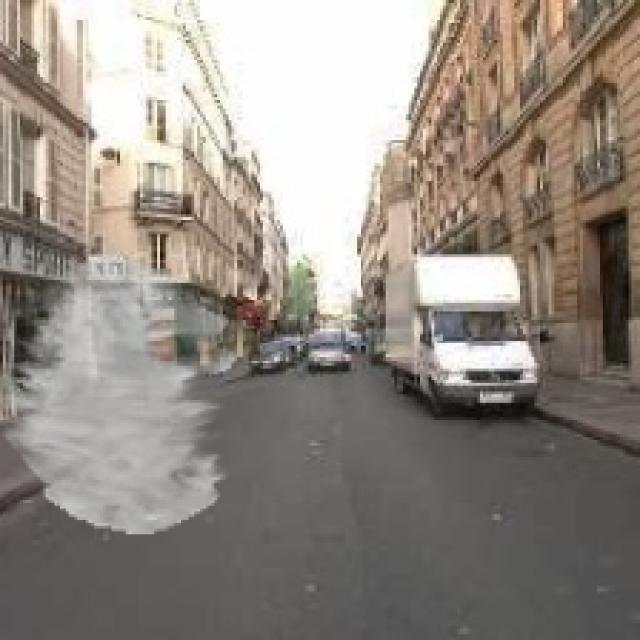Smoke: (0, 257, 237, 534)
